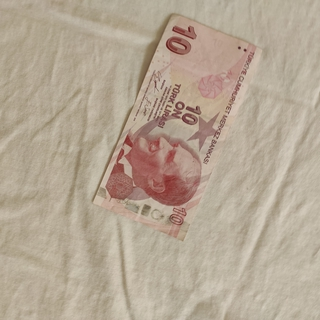10TLFront: (91, 11, 264, 243)
